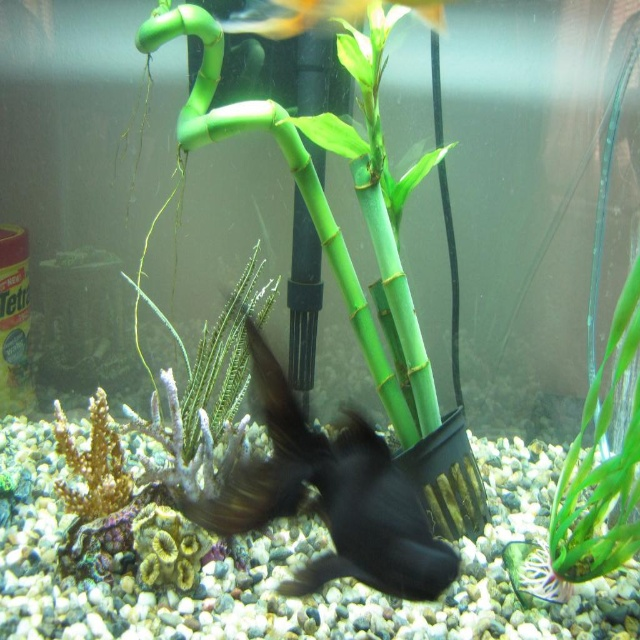Fish: (176, 309, 461, 604)
